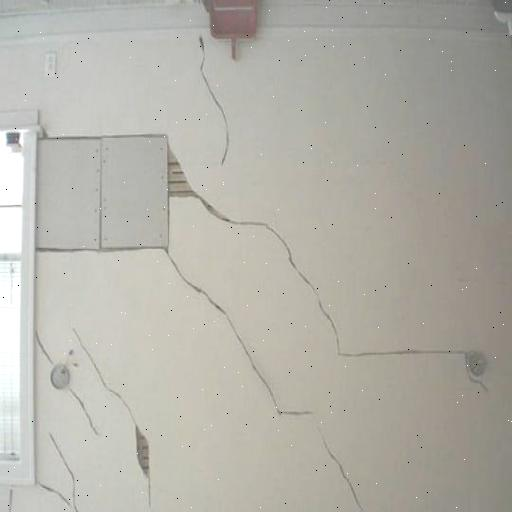spalling: (154, 245, 370, 507), (199, 182, 456, 365), (72, 327, 156, 501), (37, 329, 102, 440), (191, 39, 234, 164), (38, 428, 81, 510)
